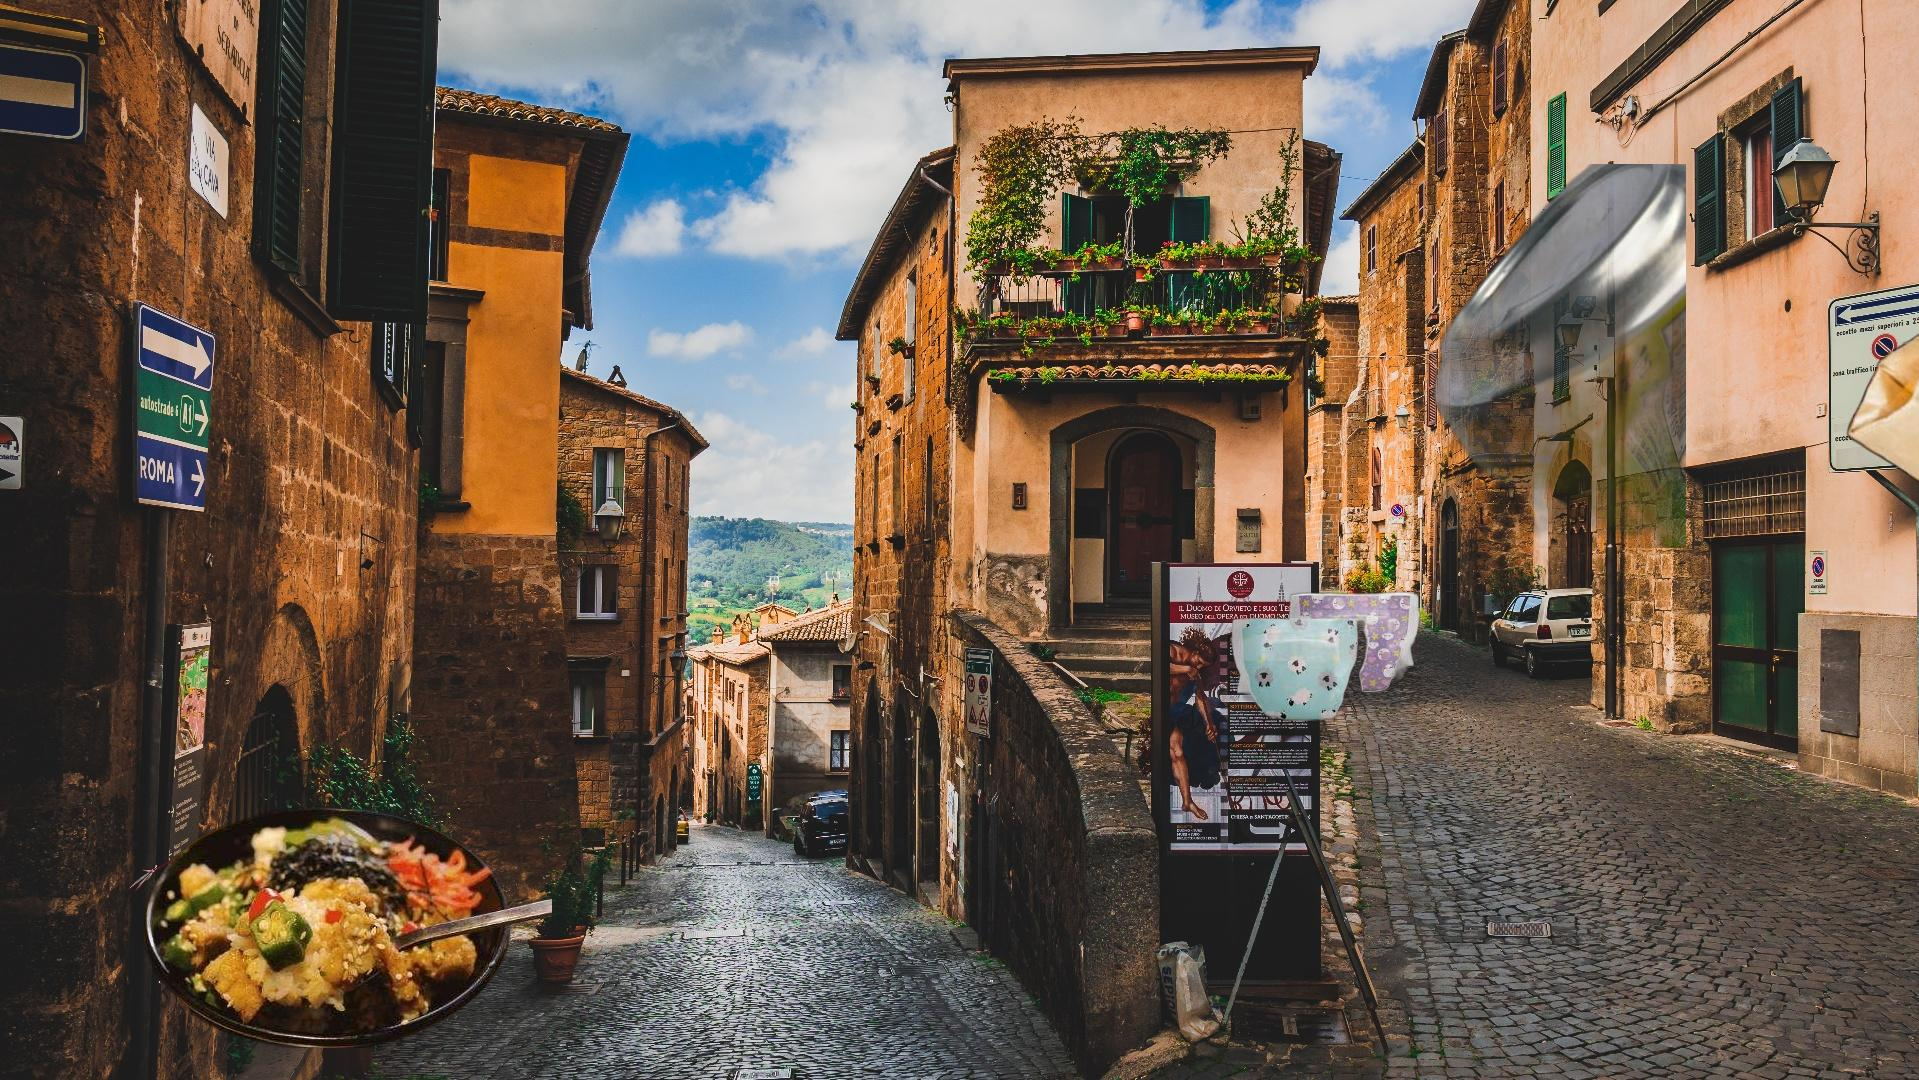biological: (138, 803, 552, 1048)
metal-cans: (1427, 164, 1686, 549)
paper-bag: (1844, 322, 1919, 516)
trash: (1228, 587, 1430, 724)
